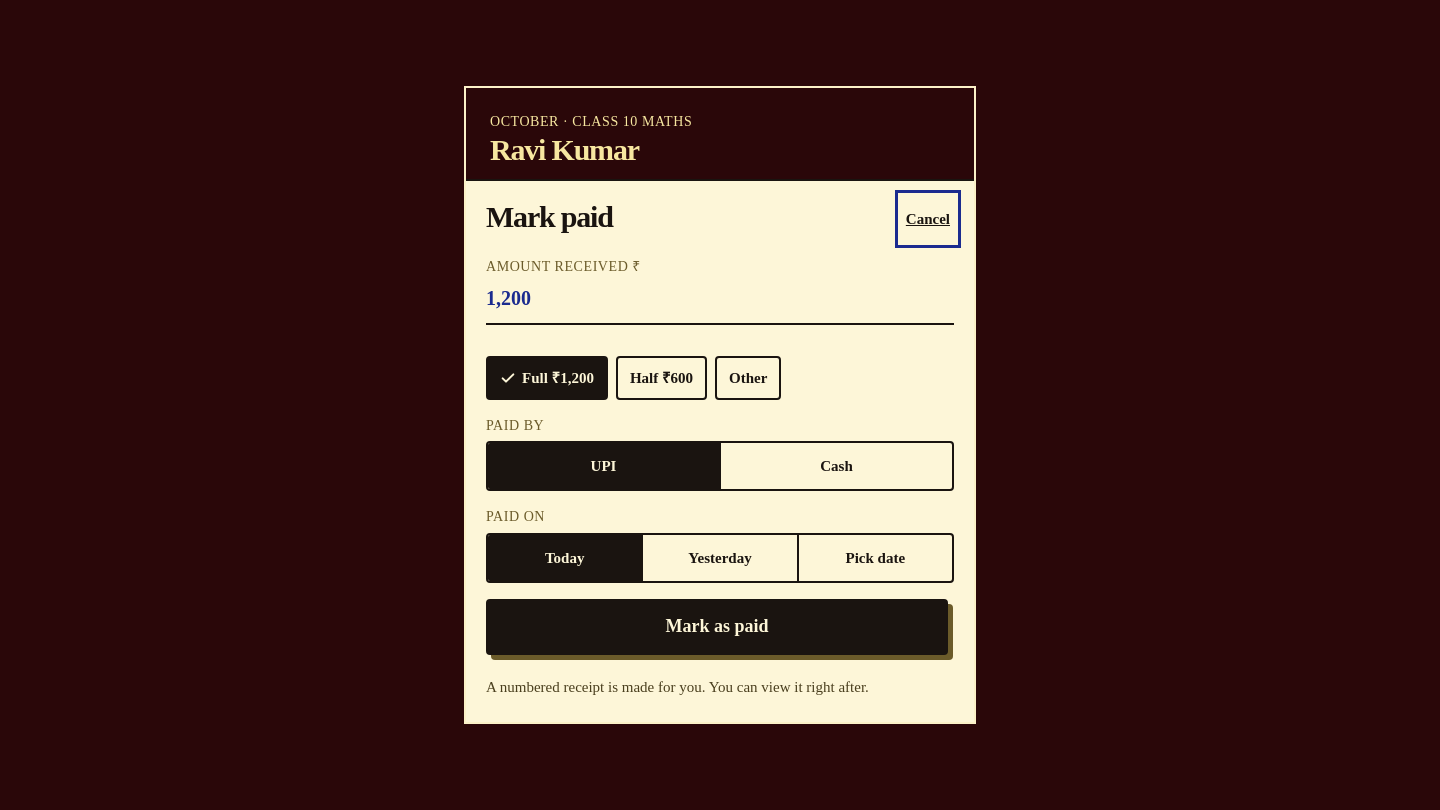
Test: the amount (13) › refuses 0 with a message beside the field and sends nothing
This screenshot has width=1440, height=810.
Replace the text in the text box labelled "Amount received ₹" with "0" at (720, 299), box top-left (486, 277), bottom-right (954, 321)
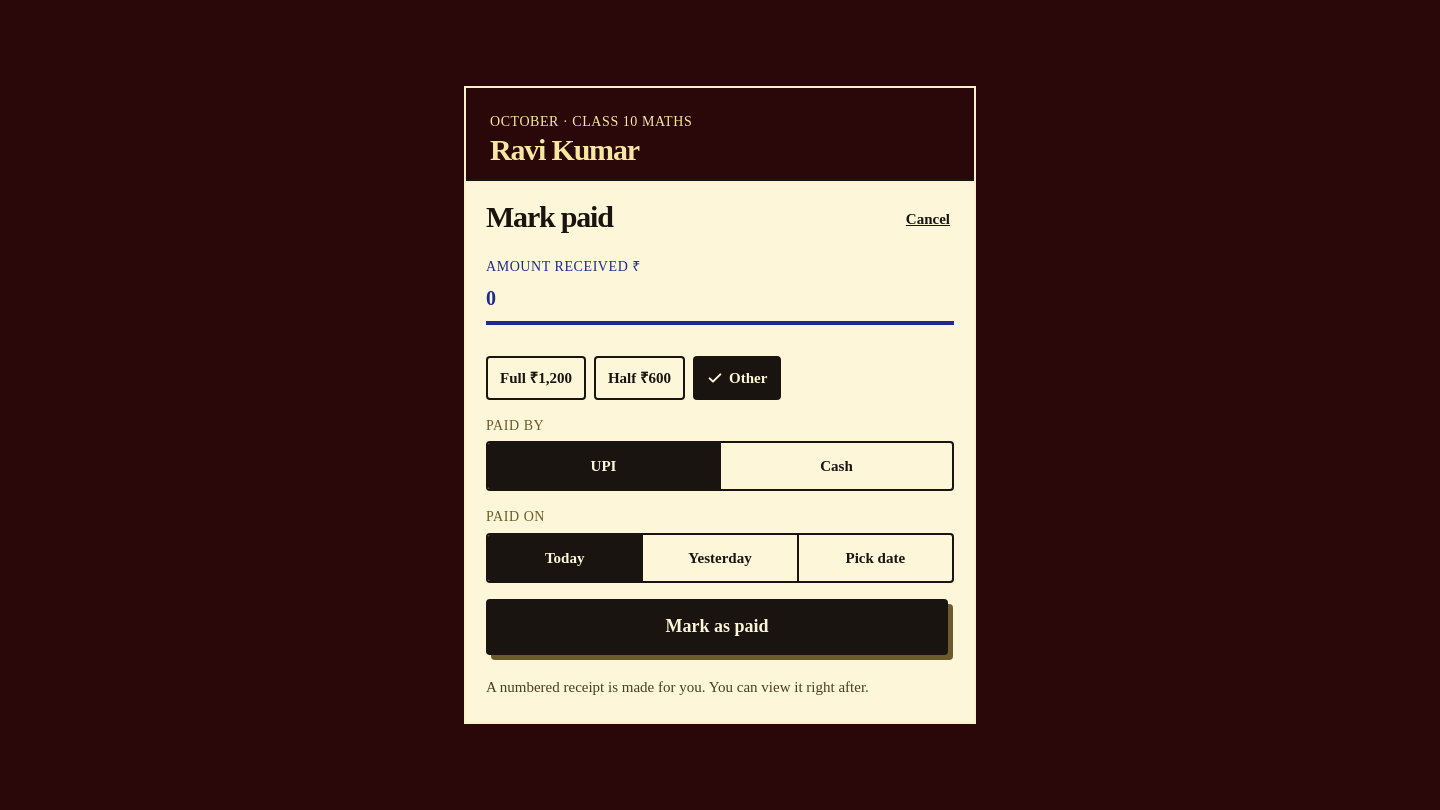
Click the button "Mark as paid" at (717, 627), box top-left (486, 599), bottom-right (948, 655)
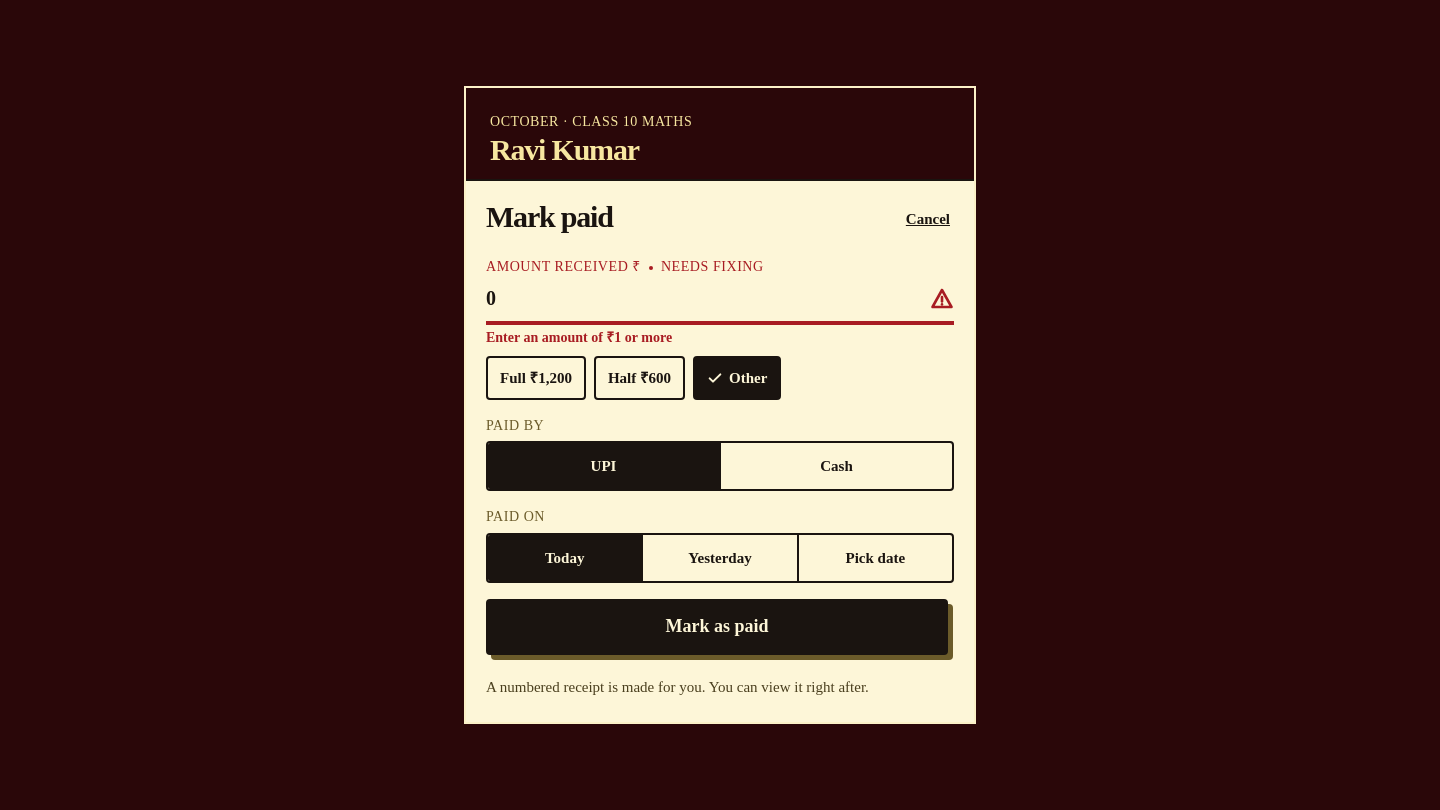
Expected: the text "Enter an amount of ₹1 or more" is shown, top-left (486, 330), bottom-right (672, 345)
